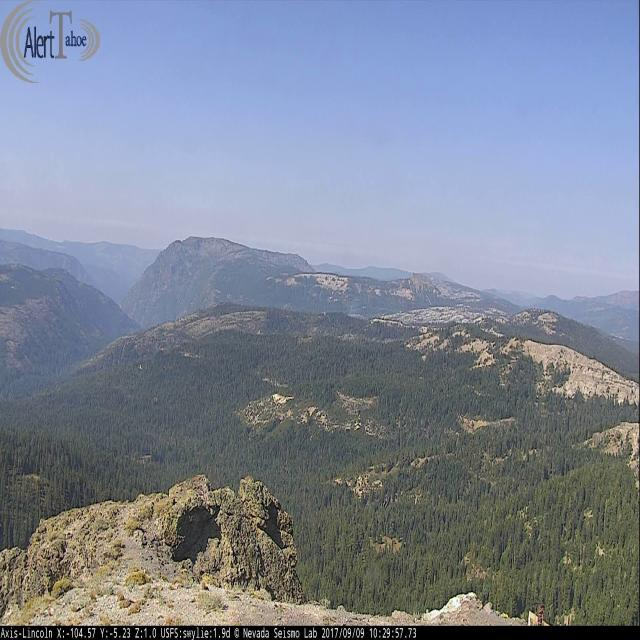smoke: (346, 294, 366, 322)
